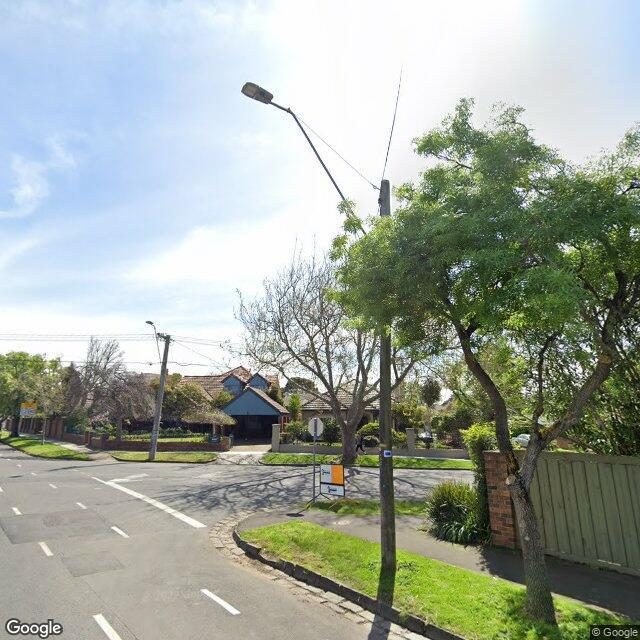crossarm: (157, 333, 175, 341)
streetlight: (241, 81, 366, 237), (146, 321, 162, 369)
timber-pole: (380, 179, 396, 577), (149, 335, 170, 460)
